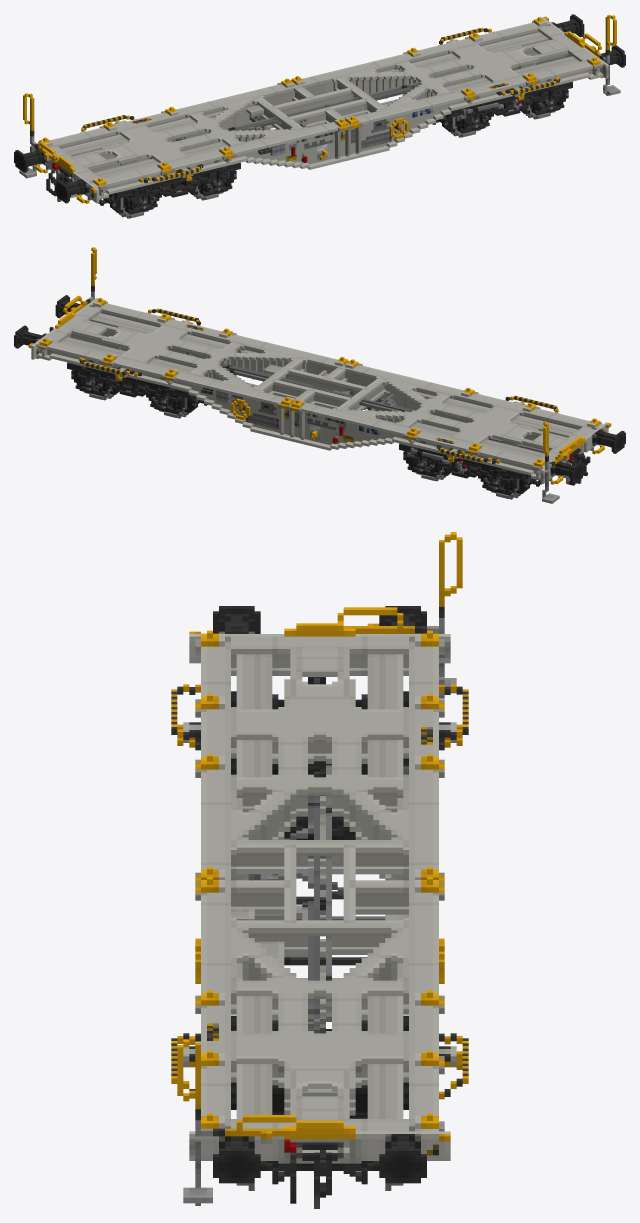
Rendered from vtg_sgmmns_40.obj.
3 renders of one model, top to bottom at view 1: azimuth 30°, elevation 25°; view 2: azimuth 150°, elevation 25°; view 3: azimuth 270°, elevation 25°, orthographic. The views are drawn at different scales.
Visible parts, largest first — view 1: FRAME_1, Braker, BOGEY_FRONT_Frame, BOGEY_REAR_Frame, BOGEY_FRONT_Primary_Suspension, BOGEY_REAR_Primary_Suspension, WIDGET_69_TOGGLE_CG_h2_HIDE, WIDGET_68_TOGGLE_CG_h1_HIDE, BOGEY_FRONT_Brakes, BOGEY_REAR_Brake; view 2: FRAME_1, Braker, BOGEY_FRONT_Frame, BOGEY_REAR_Frame, BOGEY_REAR_Primary_Suspension, BOGEY_FRONT_Primary_Suspension; view 3: FRAME_1, Braker, BOGEY_REAR_Frame, BOGEY_FRONT_Frame, WIDGET_70_TOGGLE_CG_h2_HIDE_INVERT, WIDGET_67_TOGGLE_CG_h1_HIDE_INVERT, WIDGET_68_TOGGLE_CG_h1_HIDE, WIDGET_69_TOGGLE_CG_h2_HIDE.
Part boxes in pixels (bbox=[...]): FRAME_1: bbox=[14, 14, 625, 203]; Braker: bbox=[175, 54, 570, 162]; BOGEY_FRONT_Frame: bbox=[98, 162, 240, 205]; BOGEY_REAR_Frame: bbox=[406, 81, 572, 124]; BOGEY_FRONT_Primary_Suspension: bbox=[124, 169, 232, 214]; BOGEY_REAR_Primary_Suspension: bbox=[456, 88, 564, 133]; WIDGET_69_TOGGLE_CG_h2_HIDE: bbox=[605, 14, 616, 63]; WIDGET_68_TOGGLE_CG_h1_HIDE: bbox=[23, 93, 34, 143]; BOGEY_FRONT_Brakes: bbox=[103, 170, 236, 213]; BOGEY_REAR_Brake: bbox=[403, 89, 568, 132]; FRAME_1: bbox=[14, 295, 625, 503]; Braker: bbox=[185, 352, 544, 452]; BOGEY_FRONT_Frame: bbox=[399, 443, 541, 486]; BOGEY_REAR_Frame: bbox=[67, 362, 233, 405]; BOGEY_REAR_Primary_Suspension: bbox=[75, 369, 183, 414]; BOGEY_FRONT_Primary_Suspension: bbox=[407, 450, 515, 495]; FRAME_1: bbox=[171, 606, 468, 1208]; Braker: bbox=[231, 765, 408, 1033]; BOGEY_REAR_Frame: bbox=[231, 1015, 408, 1184]; BOGEY_FRONT_Frame: bbox=[231, 691, 408, 839]; WIDGET_70_TOGGLE_CG_h2_HIDE_INVERT: bbox=[195, 1115, 302, 1136]; WIDGET_67_TOGGLE_CG_h1_HIDE_INVERT: bbox=[337, 607, 444, 633]; WIDGET_68_TOGGLE_CG_h1_HIDE: bbox=[439, 532, 462, 633]; WIDGET_69_TOGGLE_CG_h2_HIDE: bbox=[177, 1037, 200, 1135].
Bounding box in the file's own units: 13.56 × 2.31 × 3.12.
Materials: 1 (1 with a texture image).
